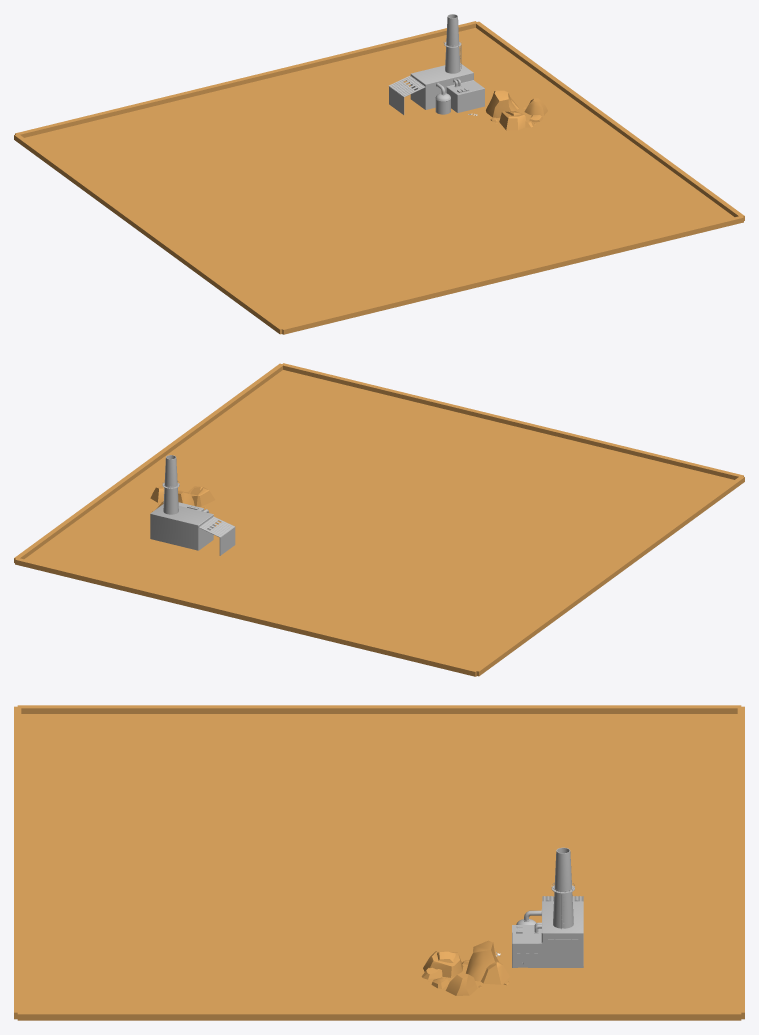
The model's file is level1.fbx.
3 views of the same model, one above another, from view 1: azimuth 30°, elevation 25°; view 2: azimuth 150°, elevation 25°; view 3: azimuth 270°, elevation 25° (orthographic). The views are drawn at different scales.
Parts seen in each view (by area): view 1: Plane, Refinery, Cube.002, Cube.001, Cube.003, Cube.004, Rocks01; view 2: Plane, Refinery, Cube.001, Cube.002, Cube.003, Cube.004, Rocks01; view 3: Plane, Cube.004, Cube.003, Refinery, Rocks01, Cube.002, Cube.001.
Boxes of the visible parts, left/top/right/bottom form: Plane: left=25, top=28, right=734, bottom=334; Refinery: left=389, top=14, right=484, bottom=114; Cube.002: left=281, top=215, right=743, bottom=334; Cube.001: left=15, top=21, right=477, bottom=137; Cube.003: left=14, top=134, right=282, bottom=334; Cube.004: left=475, top=21, right=744, bottom=220; Rocks01: left=486, top=90, right=547, bottom=130; Plane: left=24, top=370, right=734, bottom=676; Refinery: left=150, top=455, right=235, bottom=555; Cube.001: left=15, top=558, right=477, bottom=676; Cube.002: left=281, top=363, right=743, bottom=479; Cube.003: left=475, top=476, right=744, bottom=676; Cube.004: left=14, top=363, right=283, bottom=562; Rocks01: left=150, top=485, right=215, bottom=511; Plane: left=21, top=714, right=737, bottom=1010; Cube.004: left=17, top=1011, right=741, bottom=1020; Cube.003: left=17, top=705, right=741, bottom=713; Refinery: left=512, top=847, right=583, bottom=967; Rocks01: left=421, top=940, right=510, bottom=995; Cube.002: left=14, top=706, right=21, bottom=1019; Cube.001: left=737, top=706, right=744, bottom=1019.
Bounding box in the file's own units: 10100 × 1688 × 10100.
